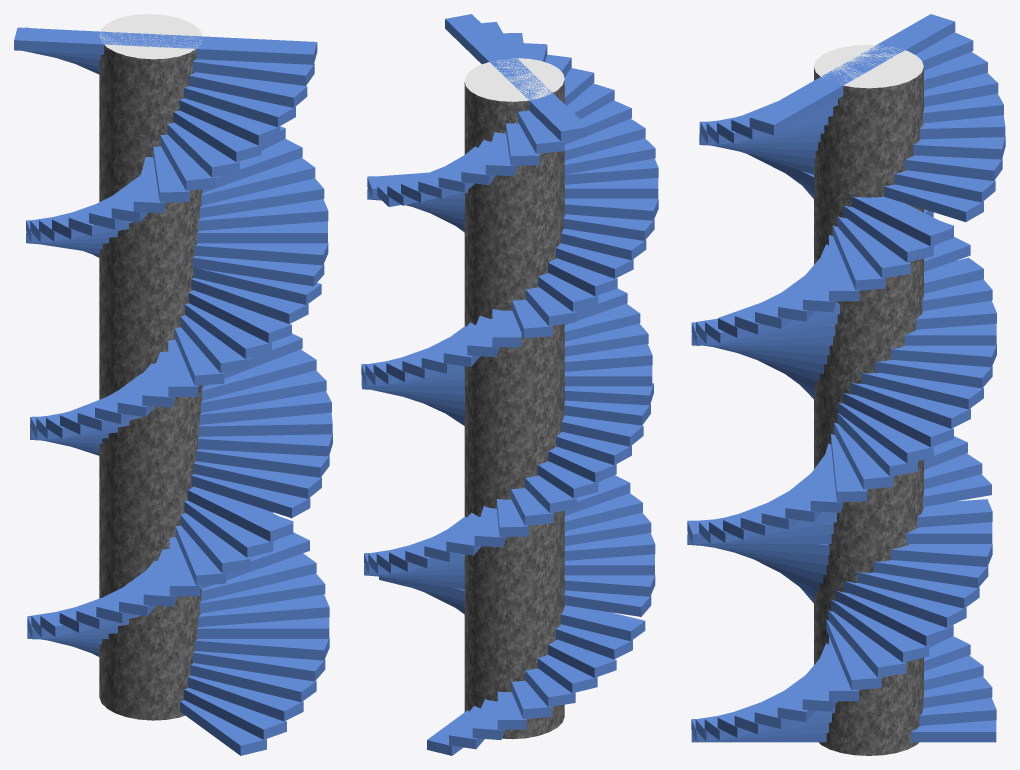
The model's file is Staircase2.fbx.
3 renders of one model, left to right at view 1: azimuth 30°, elevation 25°; view 2: azimuth 150°, elevation 25°; view 3: azimuth 270°, elevation 25°, orthographic. The views are drawn at different scales.
Visible parts, largest first — view 1: Component1, Component_2_59, Component_2_1, Component_2_48, Component_2_40, Component_2_8, Component_2_10, Component_2_43, Component_2_14, Component_2_16, Component_2_28, Component_2_9 (+49 smaller); view 2: Component1, Component_2_59, Component_2_16, Component_2_12, Component_2_46, Component_2_29, Component_2_23, Component_2_19, Component_2_20, Component_2_30, Component_2_10, Component_2_51 (+49 smaller); view 3: Component1, Component_2_59, Component_2_39, Component_2_25, Component_2_34, Component_2_21, Component_2_33, Component_2_24, Component_2_32, Component_2_22, Component_2_36, Component_2_27 (+49 smaller).
Boxes of the visible parts, box(x1,y1,x2,y2) form: Component1: box(99, 14, 202, 720); Component_2_59: box(14, 27, 317, 64); Component_2_1: box(27, 594, 329, 639); Component_2_48: box(26, 199, 328, 243); Component_2_40: box(26, 220, 327, 243); Component_2_8: box(30, 429, 332, 456); Component_2_10: box(46, 349, 316, 438); Component_2_43: box(26, 233, 328, 265); Component_2_14: box(31, 391, 331, 439); Component_2_16: box(40, 553, 316, 636); Component_2_28: box(31, 573, 325, 637); Component_2_9: box(36, 370, 326, 439); Component1: box(464, 58, 564, 739); Component_2_59: box(445, 14, 587, 141); Component_2_16: box(379, 576, 645, 641); Component_2_12: box(362, 383, 653, 405); Component_2_46: box(367, 189, 658, 220); Component_2_29: box(361, 344, 652, 386); Component_2_23: box(364, 533, 655, 575); Component_2_19: box(364, 565, 655, 596); Component_2_20: box(364, 553, 654, 575); Component_2_30: box(361, 364, 652, 386); Component_2_10: box(373, 390, 643, 446); Component_2_51: box(377, 138, 655, 206); Component1: box(814, 44, 923, 755); Component_2_59: box(749, 14, 955, 135); Component_2_39: box(747, 154, 953, 246); Component_2_25: box(687, 534, 992, 566); Component_2_34: box(716, 347, 983, 409); Component_2_21: box(716, 548, 979, 608); Component_2_33: box(707, 346, 992, 388); Component_2_24: box(704, 546, 988, 588); Component_2_32: box(691, 335, 996, 367); Component_2_22: box(736, 553, 966, 627); Component_2_36: box(691, 300, 996, 345); Component_2_27: box(687, 499, 992, 544).
Size of the model in its own units: 3.92 by 9.27 by 4.
